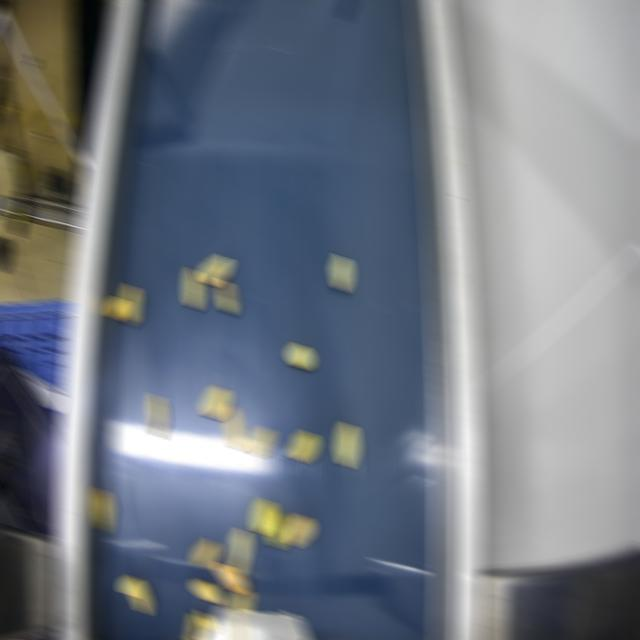Baby Potato: (121, 576, 150, 614), (215, 563, 246, 592), (266, 509, 289, 548), (202, 385, 229, 418), (286, 513, 313, 546), (336, 425, 357, 467), (231, 529, 250, 573), (253, 498, 276, 534), (201, 257, 230, 285), (290, 432, 317, 462), (226, 405, 243, 449), (95, 488, 112, 532), (193, 538, 218, 567), (185, 267, 202, 308), (121, 283, 138, 324), (250, 426, 273, 455), (192, 581, 221, 603), (333, 254, 350, 291), (149, 395, 164, 435), (218, 281, 235, 313), (288, 345, 311, 368), (230, 589, 253, 611), (108, 296, 127, 319), (198, 610, 217, 631), (187, 616, 204, 639)
